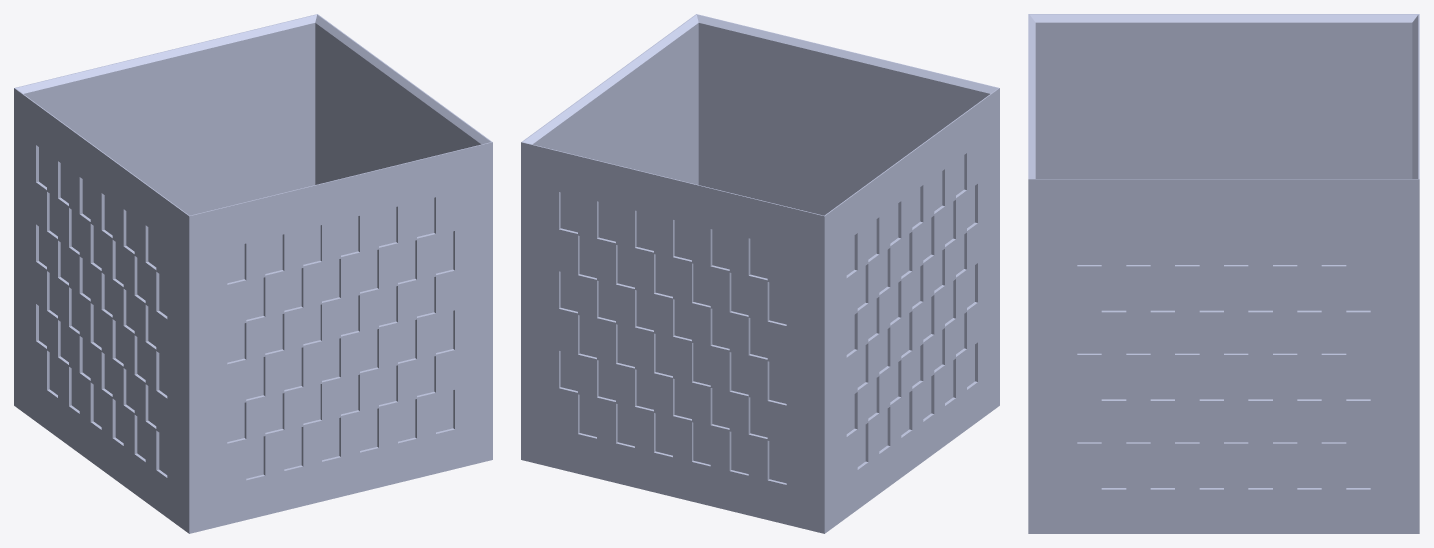
Rendered from JukeboxCase.glb.
3 renders of one model, left to right at view 1: azimuth 30°, elevation 25°; view 2: azimuth 150°, elevation 25°; view 3: azimuth 270°, elevation 25°, orthographic. The views are drawn at different scales.
Visible parts, largest first — view 1: JukeboxCase; view 2: JukeboxCase; view 3: JukeboxCase.
Boxes of the visible parts, x1=… form: JukeboxCase: x1=14, y1=14, x2=492, y2=533; JukeboxCase: x1=521, y1=14, x2=999, y2=533; JukeboxCase: x1=1028, y1=14, x2=1419, y2=533.
Bounding box in the file's own units: 0.16 × 0.16 × 0.16.
